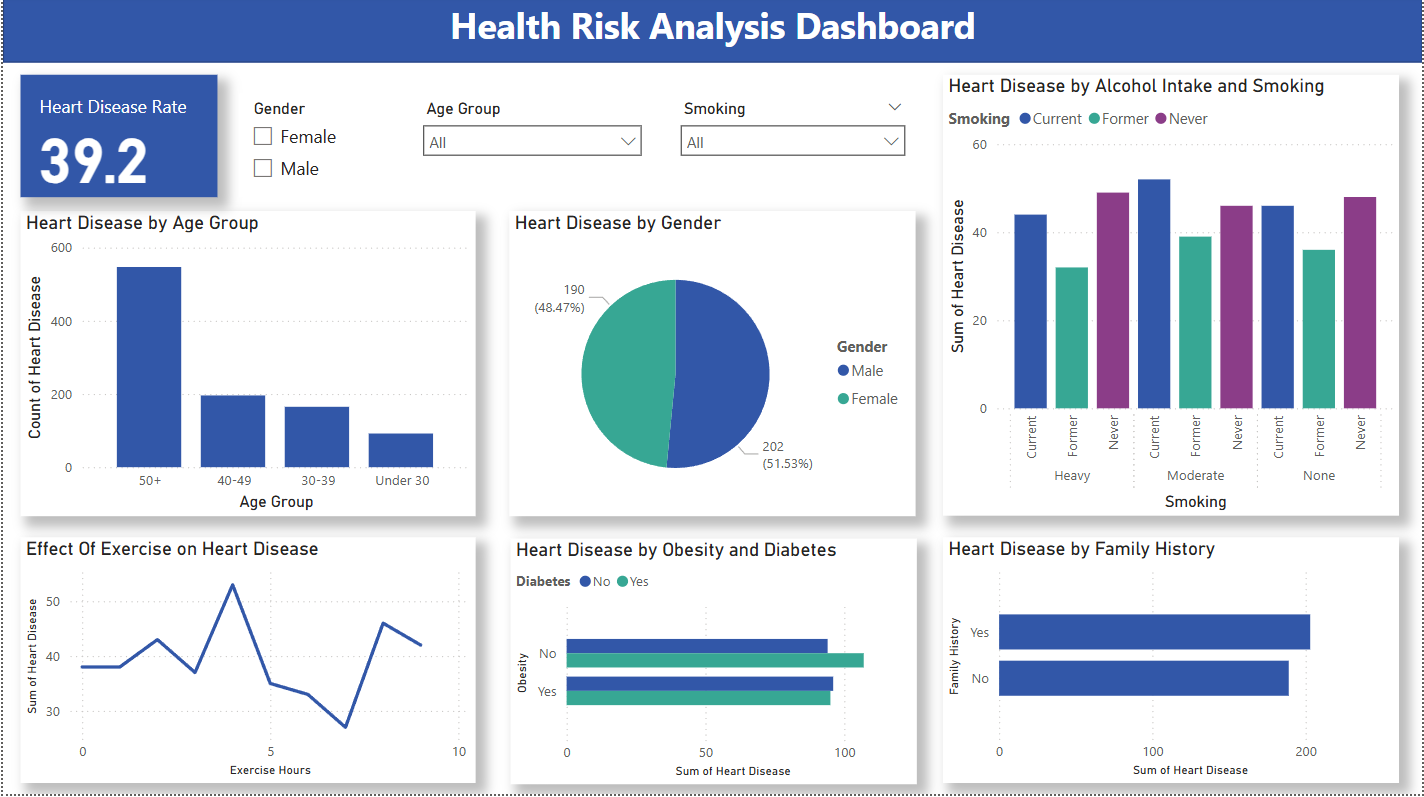

What the dashboard file says about the page in this screenshot:
{"tool":"powerbi","page":{"name":"Page 1","canvas":[1280,720],"ordinal":0},"visuals":[{"type":"clusteredColumnChart","title":"Heart Disease by Age Group","fields":{"Y":["CountNonNull(heart_disease_dataset.Heart Disease)"],"Category":["heart_disease_dataset.Age Group"]},"box":[16.2,193.8,410,275],"z":0},{"type":"cardVisual","fields":{"Data":["heart_disease_dataset.Heart Disease Rate"]},"box":[16.2,71.2,177.5,110],"z":1000},{"type":"columnChart","title":"Heart Disease by Alcohol Intake and Smoking","fields":{"Category":["heart_disease_dataset.Alcohol Intake","heart_disease_dataset.Smoking"],"Y":["Sum(heart_disease_dataset.Heart Disease)"],"Series":["heart_disease_dataset.Smoking"]},"box":[847.5,71.2,411.2,397.5],"z":2000},{"type":"lineChart","title":"Effect Of Exercise on Heart Disease","fields":{"Y":["Sum(heart_disease_dataset.Heart Disease)"],"Category":["heart_disease_dataset.Exercise Hours"]},"box":[16.2,487.5,410,221.2],"z":3000},{"type":"pieChart","title":"Heart Disease by Gender","fields":{"Category":["heart_disease_dataset.Gender"],"Y":["Sum(heart_disease_dataset.Heart Disease)"]},"box":[456.2,193.8,366.2,275],"z":4000},{"type":"clusteredBarChart","title":"Heart Disease by Obesity and Diabetes","fields":{"Category":["heart_disease_dataset.Obesity"],"Series":["heart_disease_dataset.Diabetes"],"Y":["Sum(heart_disease_dataset.Heart Disease)"]},"box":[457.5,488.8,366.2,221.2],"z":5000},{"type":"barChart","title":"Heart Disease by Family History","fields":{"Category":["heart_disease_dataset.Family History"],"Y":["Sum(heart_disease_dataset.Heart Disease)"]},"box":[847.5,487.5,411.2,221.2],"z":6000},{"type":"slicer","fields":{"Values":["heart_disease_dataset.Gender"]},"box":[212.5,87.5,156.2,93.8],"z":7000},{"type":"shape","box":[0,0,1280,60],"z":7001},{"type":"textbox","box":[0,0,1280,60],"z":7003},{"type":"slicer","fields":{"Values":["heart_disease_dataset.Age Group"]},"box":[368.8,87.5,217.5,77.5],"z":7004},{"type":"slicer","fields":{"Values":["heart_disease_dataset.Smoking"]},"box":[601.2,87.5,222.5,77.5],"z":7005}]}

Visuals, with their boxes in screenshot pixels (x1, y1, x2, y2), scaled from the page's 1280x720 canvas onto the 1424x797 screenshot:
"Heart Disease by Age Group" clusteredColumnChart: <region>18, 215, 474, 519</region>
cardVisual - heart_disease_dataset.Heart Disease Rate: <region>18, 79, 215, 201</region>
"Heart Disease by Alcohol Intake and Smoking" columnChart: <region>943, 79, 1400, 519</region>
"Effect Of Exercise on Heart Disease" lineChart: <region>18, 540, 474, 784</region>
"Heart Disease by Gender" pieChart: <region>508, 215, 915, 519</region>
"Heart Disease by Obesity and Diabetes" clusteredBarChart: <region>509, 541, 916, 786</region>
"Heart Disease by Family History" barChart: <region>943, 540, 1400, 784</region>
slicer - heart_disease_dataset.Gender: <region>236, 97, 410, 201</region>
shape: <region>0, 0, 1423, 66</region>
textbox: <region>0, 0, 1423, 66</region>
slicer - heart_disease_dataset.Age Group: <region>410, 97, 652, 183</region>
slicer - heart_disease_dataset.Smoking: <region>669, 97, 916, 183</region>
